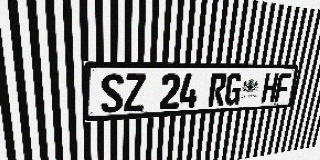2: (160, 73, 181, 110)
4: (179, 73, 199, 108)
F: (274, 73, 292, 102)
G: (224, 73, 243, 105)
H: (261, 73, 279, 103)
R: (208, 73, 227, 107)
S: (101, 74, 124, 113)
Z: (124, 74, 146, 112)
